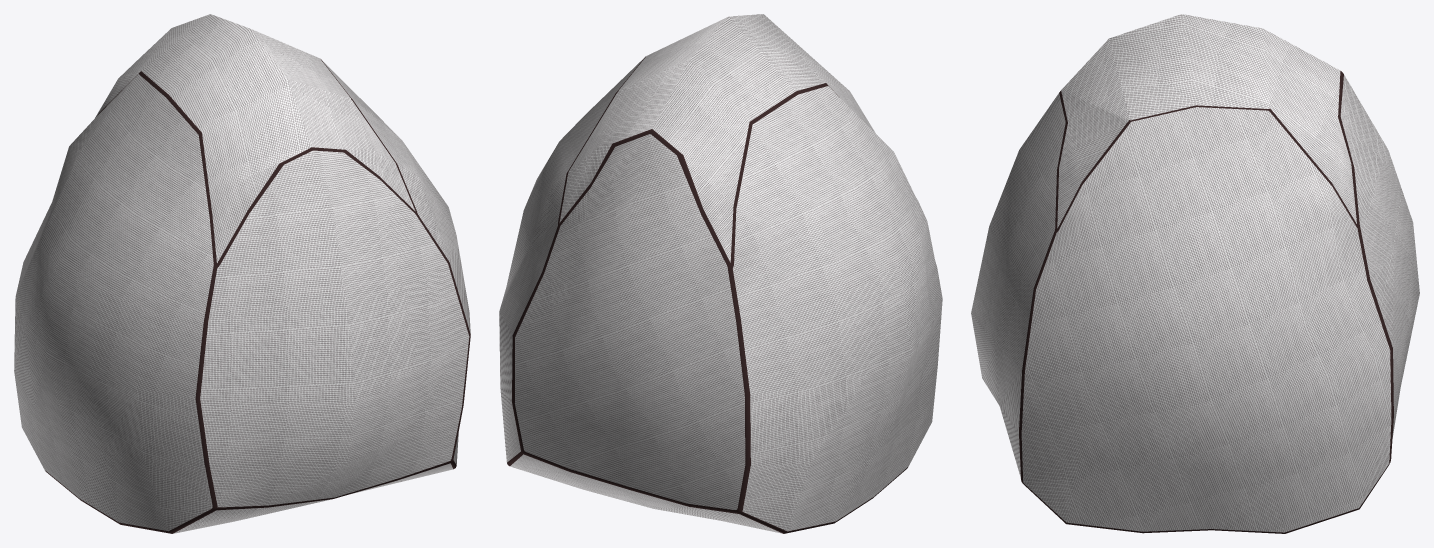
The model's file is moscito nut.fbx.
3 renders of one model, left to right at view 1: azimuth 30°, elevation 25°; view 2: azimuth 150°, elevation 25°; view 3: azimuth 270°, elevation 25°, orthographic. The views are drawn at different scales.
Parts seen in each view (by area): view 1: pCube3; view 2: pCube3; view 3: pCube3.
Part boxes in pixels (<box>): pCube3: <box>14,14,470,533</box>; pCube3: <box>499,14,942,533</box>; pCube3: <box>971,14,1419,533</box>.
Bounding box in the file's own units: 395 × 441 × 390.
